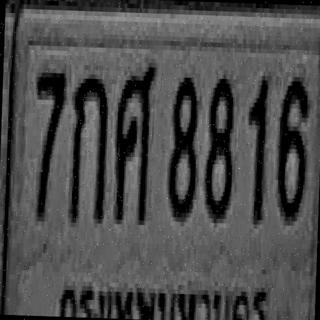A01: (68, 69, 108, 224)
A38: (113, 59, 155, 223)
N01: (245, 73, 268, 222)
N06: (276, 74, 309, 219)
N07: (32, 66, 65, 220)
N08: (166, 72, 200, 218), (202, 74, 236, 219)
